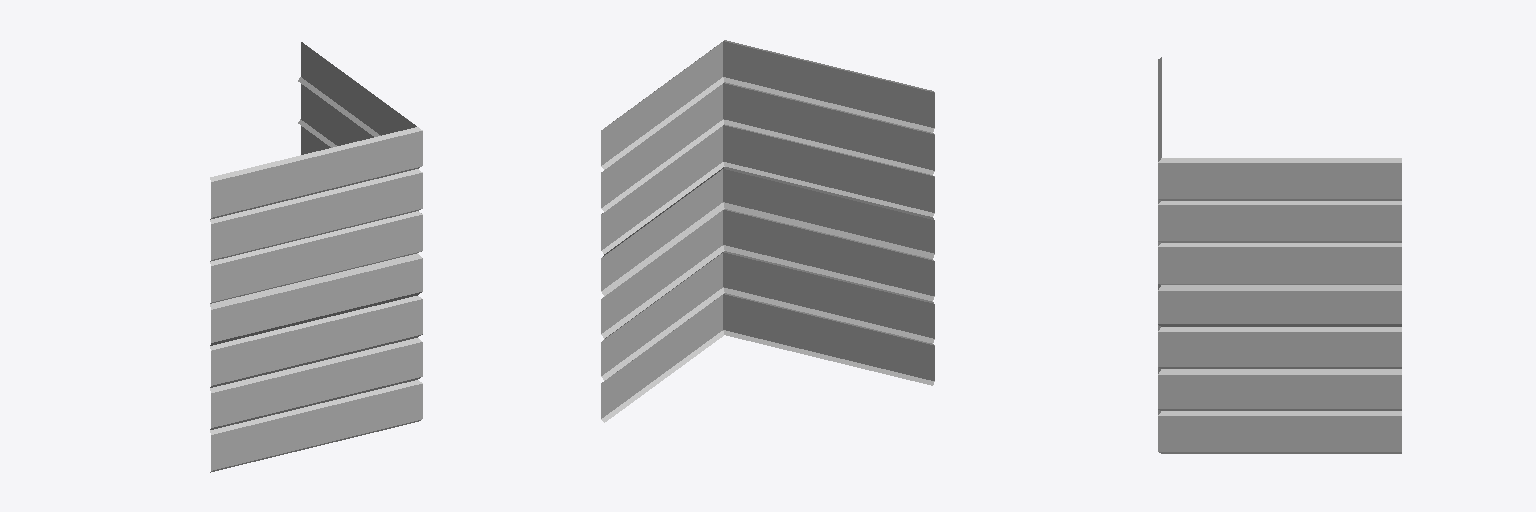
Rendered from esquina.obj.
3 renders of one model, left to right at view 1: azimuth 30°, elevation 25°; view 2: azimuth 150°, elevation 25°; view 3: azimuth 270°, elevation 25°, orthographic.
Parts seen in each view (by area): view 1: wood_plank_2_end_Cube.007; view 2: wood_plank_2_end_Cube.007; view 3: wood_plank_2_end_Cube.007.
Boxes of the visible parts, box(x1,y1,x2,y2) form: wood_plank_2_end_Cube.007: box(210, 42, 422, 472); wood_plank_2_end_Cube.007: box(601, 40, 934, 422); wood_plank_2_end_Cube.007: box(1158, 57, 1401, 453).
Size of the model in its own units: 1.83 by 2.44 by 1.83.